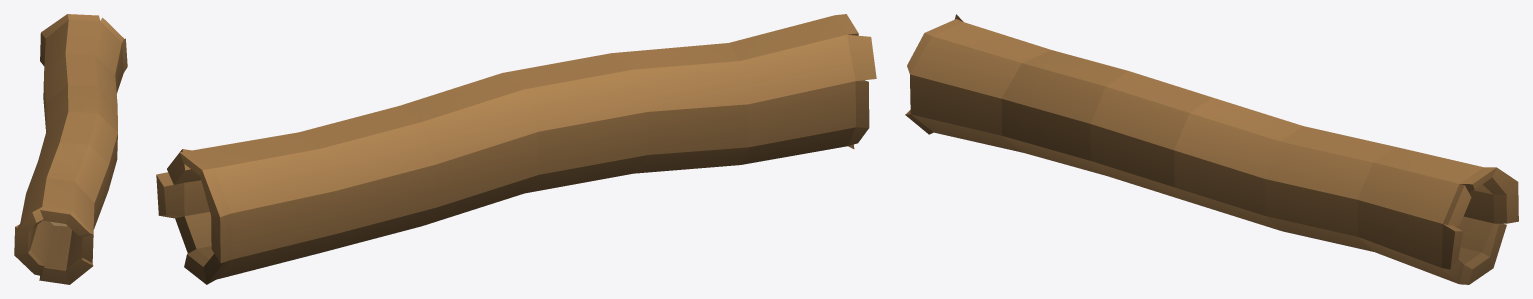
The model's file is Tree_Trunk_Single.fbx.
3 views of the same model, side by side, from view 1: azimuth 30°, elevation 25°; view 2: azimuth 150°, elevation 25°; view 3: azimuth 270°, elevation 25° (orthographic). The views are drawn at different scales.
Parts seen in each view (by area): view 1: Cylinder.002; view 2: Cylinder.002; view 3: Cylinder.002.
Part boxes in pixels (x1=…): Cylinder.002: x1=14, y1=14, x2=127, y2=284; Cylinder.002: x1=156, y1=14, x2=876, y2=284; Cylinder.002: x1=905, y1=14, x2=1518, y2=284.
Size of the model in its own units: 307 by 78.46 by 414.
